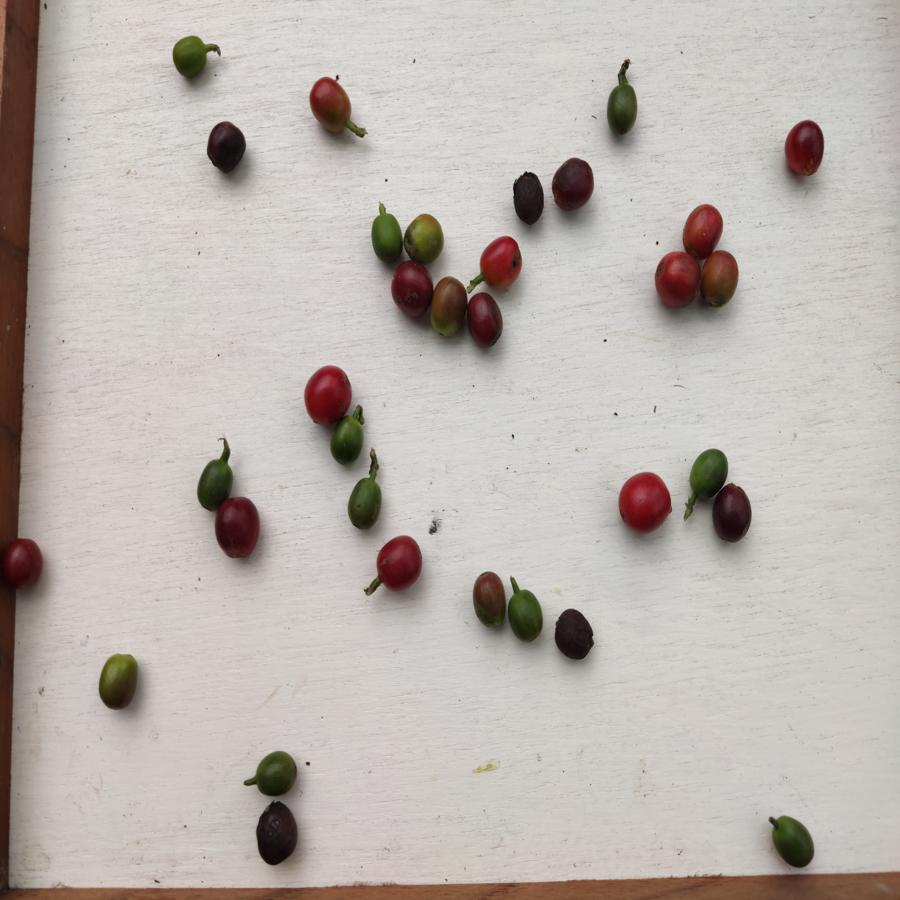Inmaduro: (766, 812, 822, 871), (505, 588, 546, 643), (254, 749, 301, 796), (169, 34, 213, 81), (688, 445, 726, 499), (603, 83, 642, 131), (367, 211, 402, 262), (349, 477, 381, 532), (331, 416, 366, 464), (198, 456, 232, 505)
Maduro: (616, 471, 676, 534), (373, 534, 427, 594), (301, 363, 351, 422), (305, 76, 354, 136), (654, 249, 700, 309), (477, 236, 526, 291), (699, 251, 744, 308), (680, 203, 724, 256)
Pinton: (428, 272, 470, 338), (94, 653, 139, 709), (404, 211, 446, 265), (473, 569, 505, 631)
Sobremaduro: (252, 801, 300, 866), (214, 498, 259, 560), (549, 154, 595, 211), (786, 116, 824, 179), (390, 261, 431, 319), (713, 486, 754, 544), (207, 117, 249, 173), (554, 606, 596, 660), (3, 539, 46, 591), (511, 169, 547, 226), (469, 294, 502, 349)
